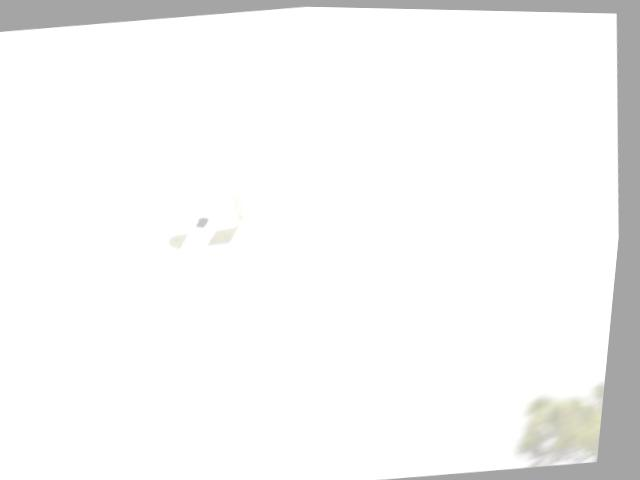uav: (137, 124, 295, 313)
